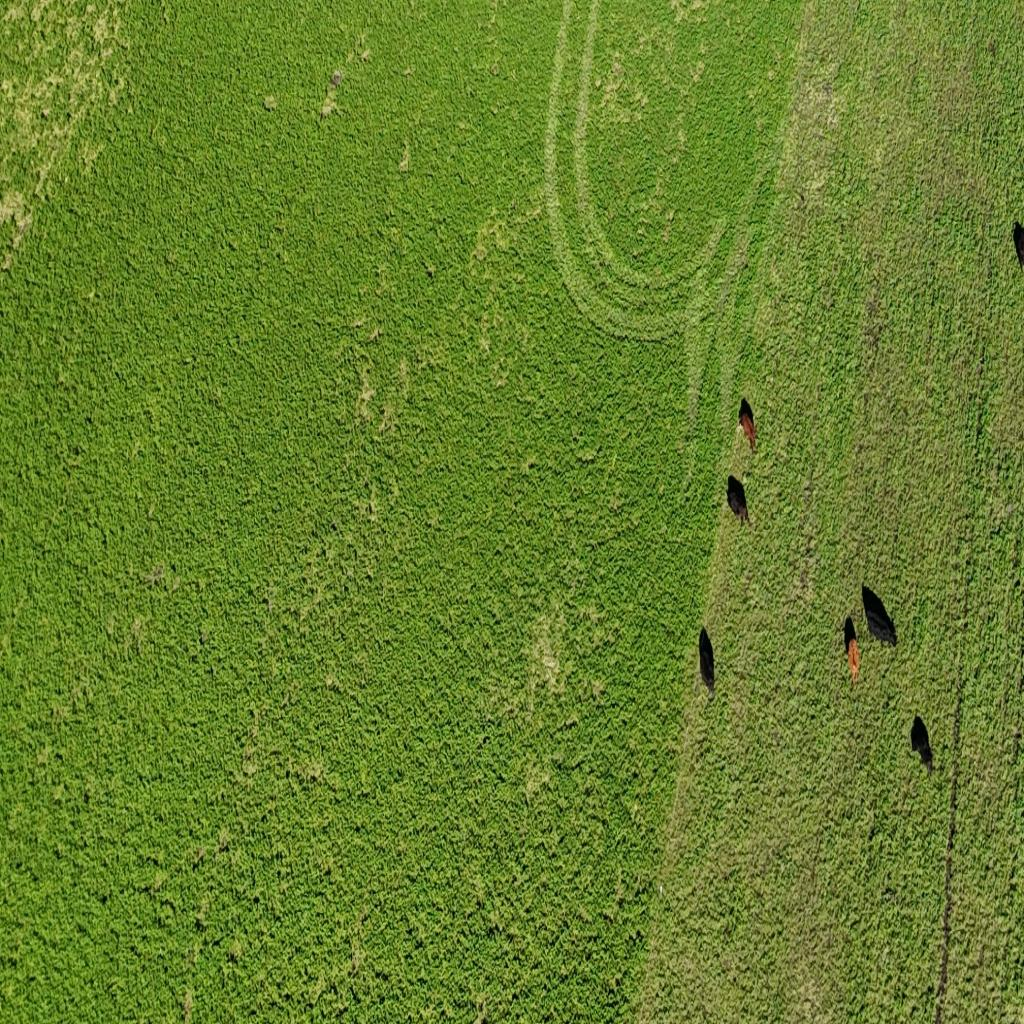cow: (861, 583, 897, 649), (910, 714, 934, 778), (726, 474, 750, 526), (844, 615, 860, 684), (738, 396, 756, 451), (699, 659, 715, 698), (1017, 221, 1024, 271)
